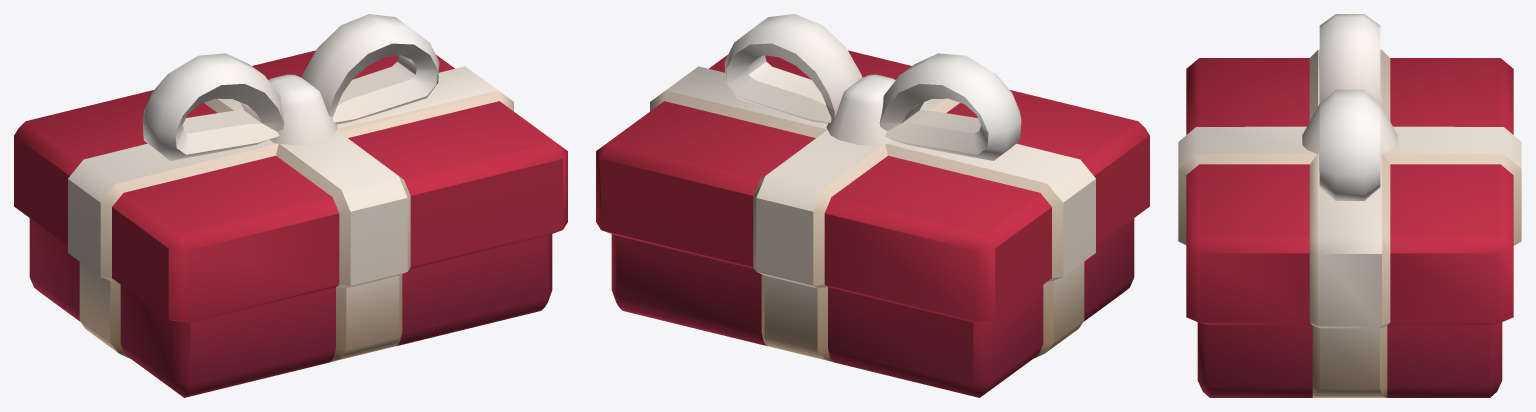
File: present_C_red.glb
3 renders of one model, left to right at view 1: azimuth 30°, elevation 25°; view 2: azimuth 150°, elevation 25°; view 3: azimuth 270°, elevation 25°, orthographic. The views are drawn at different scales.
Parts seen in each view (by area): view 1: present_C_red; view 2: present_C_red; view 3: present_C_red.
Boxes of the visible parts, left/top/right/bottom form: present_C_red: left=14, top=14, right=567, bottom=397; present_C_red: left=596, top=14, right=1149, bottom=397; present_C_red: left=1178, top=14, right=1521, bottom=397.
Bounding box in the file's own units: 0.7638 × 0.4617 × 0.5638.
1 material, 1 textured.
